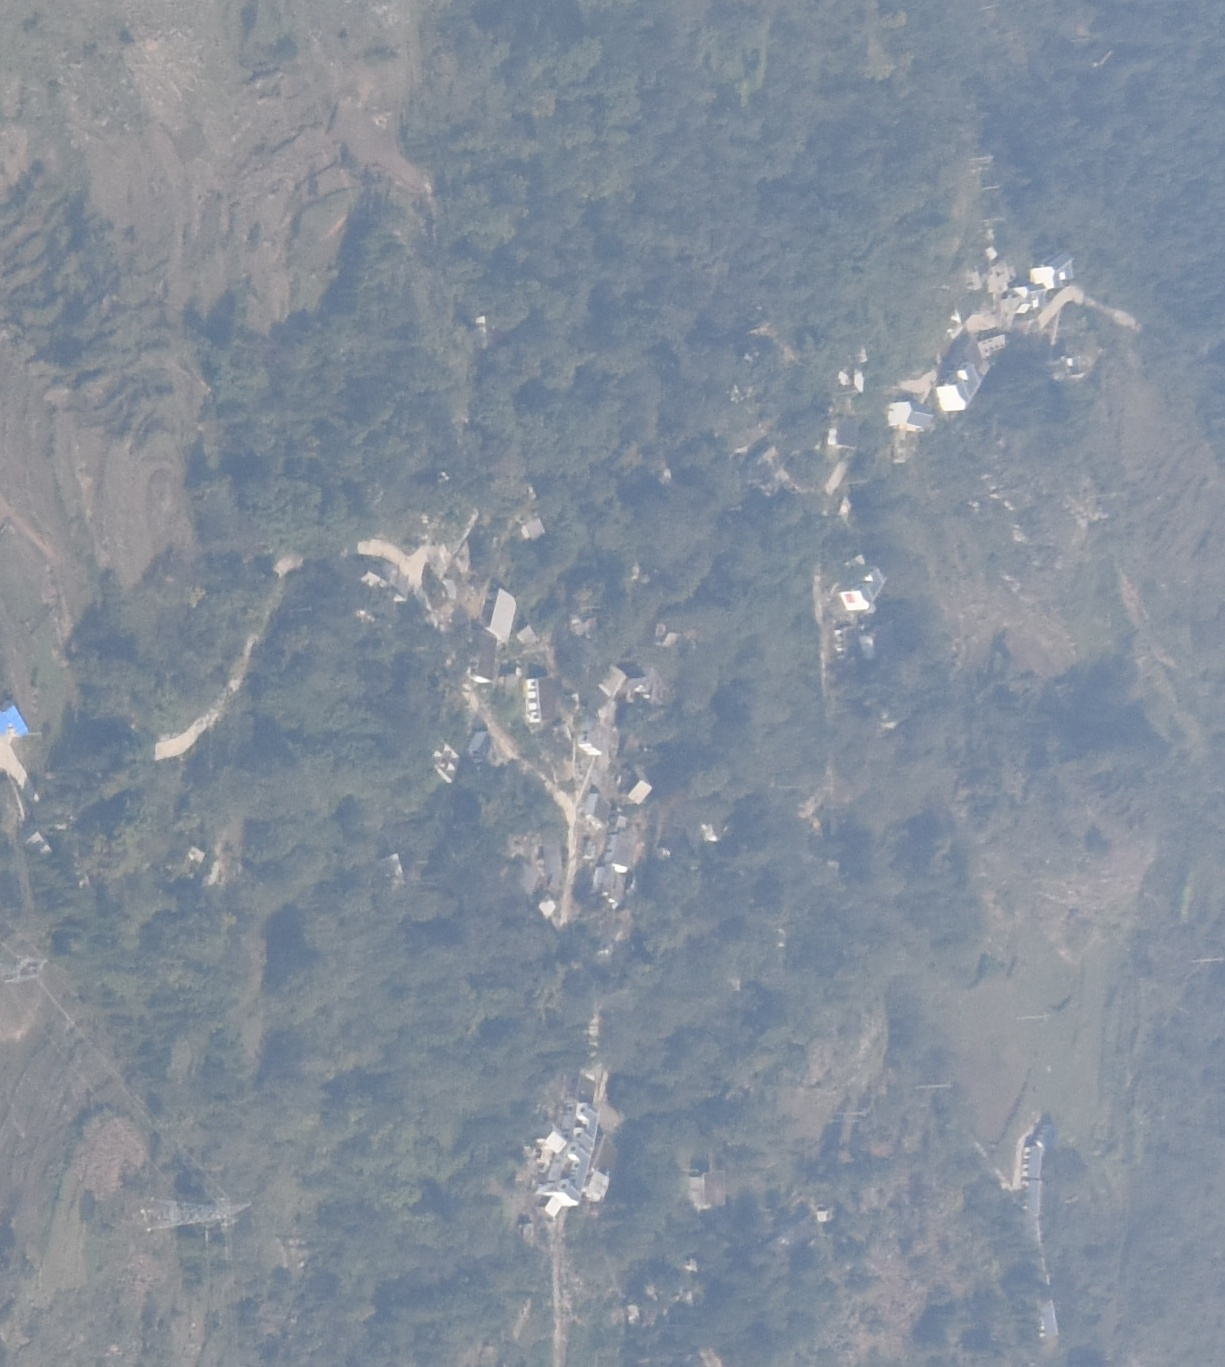building: (529, 1088, 607, 1205), (840, 559, 894, 614), (940, 356, 981, 415), (363, 558, 417, 603), (598, 657, 650, 699), (482, 588, 521, 642), (691, 1168, 735, 1214), (1022, 1220, 1052, 1288), (521, 675, 557, 731), (830, 415, 880, 454), (467, 627, 498, 685), (570, 719, 611, 757), (578, 1170, 615, 1207), (464, 726, 498, 765), (579, 786, 612, 825), (607, 829, 636, 872), (889, 402, 936, 428), (1031, 1298, 1059, 1337), (516, 859, 542, 900), (1007, 286, 1045, 315), (622, 777, 656, 805), (981, 265, 1013, 294), (1029, 263, 1067, 286), (1023, 1142, 1045, 1180), (976, 336, 1016, 355), (1026, 1178, 1045, 1217), (520, 516, 549, 539)
cable-tower: (140, 1193, 254, 1233)
prefabricated-house: (6, 701, 31, 740)
